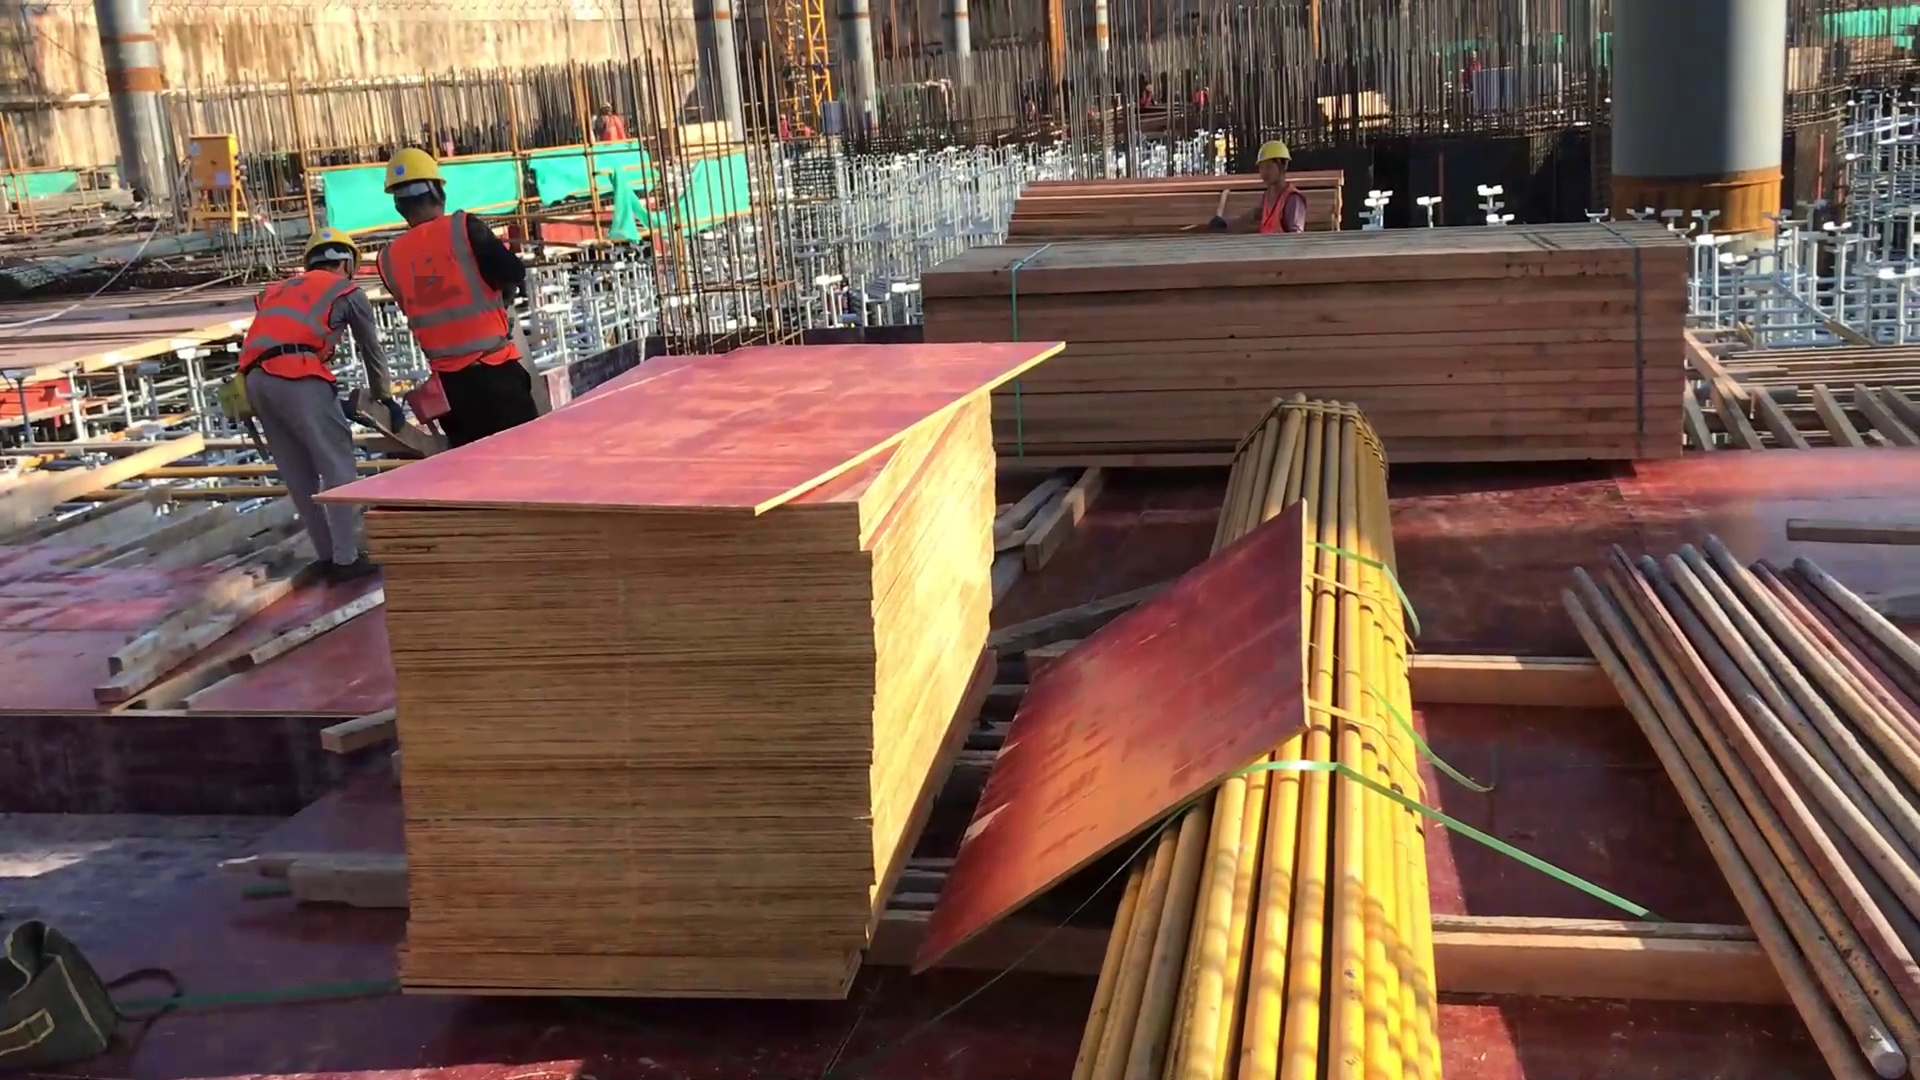board: (352, 323, 1112, 1011)
ebox: (182, 122, 265, 226)
helmet: (352, 123, 467, 197), (277, 208, 366, 273), (1239, 129, 1309, 172)
person: (232, 214, 405, 564), (359, 138, 550, 447), (1212, 130, 1313, 239)
rebar: (1538, 500, 1915, 1080)
vest: (374, 220, 511, 370), (239, 264, 369, 381), (1256, 183, 1316, 238)
wood: (890, 164, 1709, 491)
